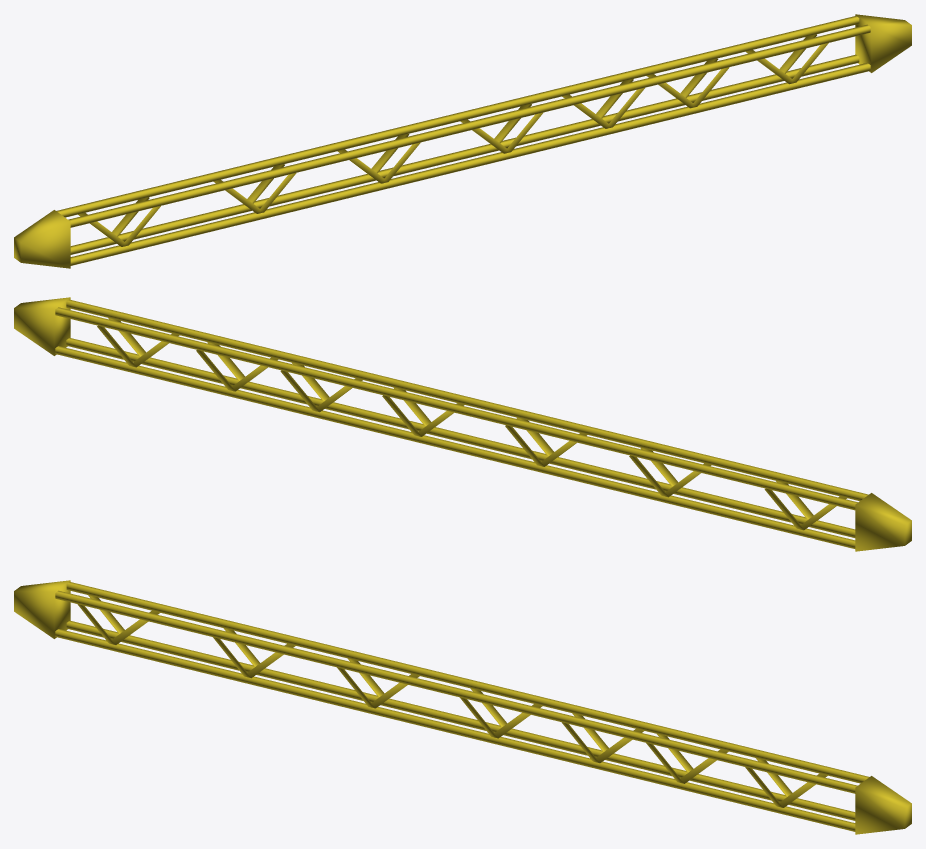
The model's file is Crane neck.fbx.
3 views of the same model, one above another, from view 1: azimuth 30°, elevation 25°; view 2: azimuth 150°, elevation 25°; view 3: azimuth 330°, elevation 25° (orthographic).
Parts seen in each view (by area): view 1: Cube.002; view 2: Cube.002; view 3: Cube.002.
Part boxes in pixels (x1=…): Cube.002: x1=14, y1=14, x2=911, y2=268; Cube.002: x1=14, y1=297, x2=911, y2=551; Cube.002: x1=14, y1=580, x2=911, y2=834.
Size of the model in its own units: 1.25 by 2 by 39.58.
